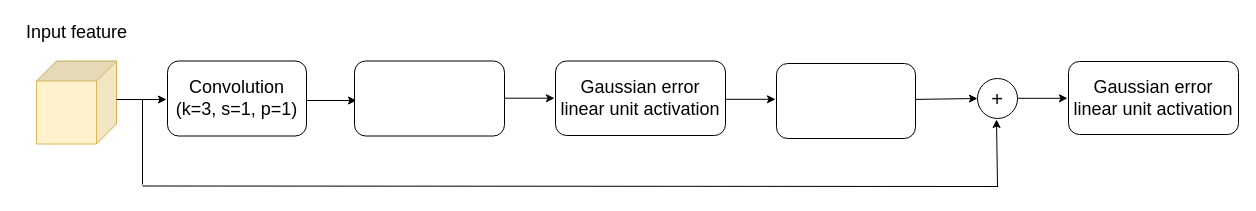
Some shapes in this 1256 by 211 pixel diagram are drawn without their labels. The shapes that lost their labels are listed below. From the top down, each one's centre as x and y in pixels, then its label:
At pixel 429 98: "Global response normalization".
At pixel 846 100: "Convolution (k=1, s=1, p=1)".
